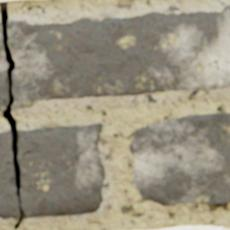brick: (129, 113, 229, 205), (149, 225, 229, 229), (0, 0, 42, 1)
broken_brick: (7, 6, 229, 108), (17, 123, 104, 217), (0, 131, 19, 218), (0, 23, 8, 110)
crack: (0, 2, 24, 228)
